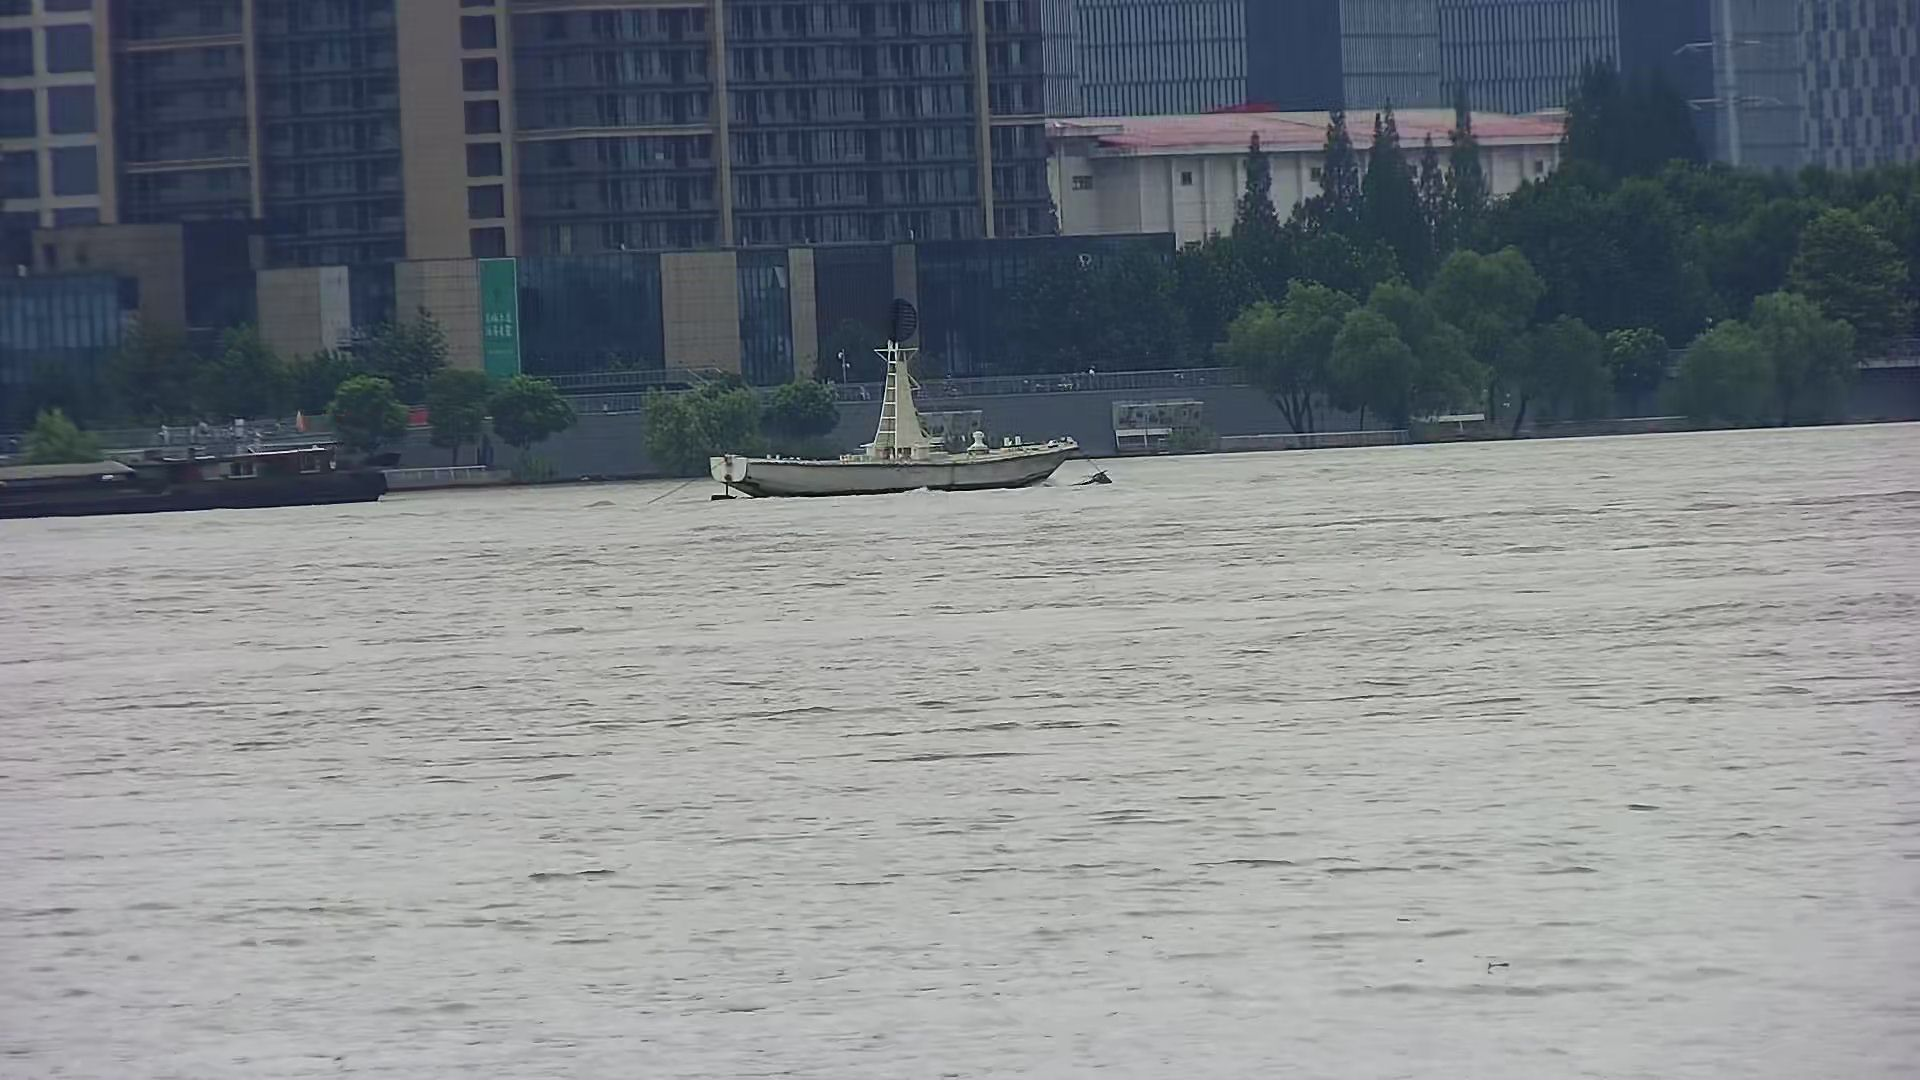boat: (707, 342, 1080, 497)
ship: (1, 409, 419, 516)
